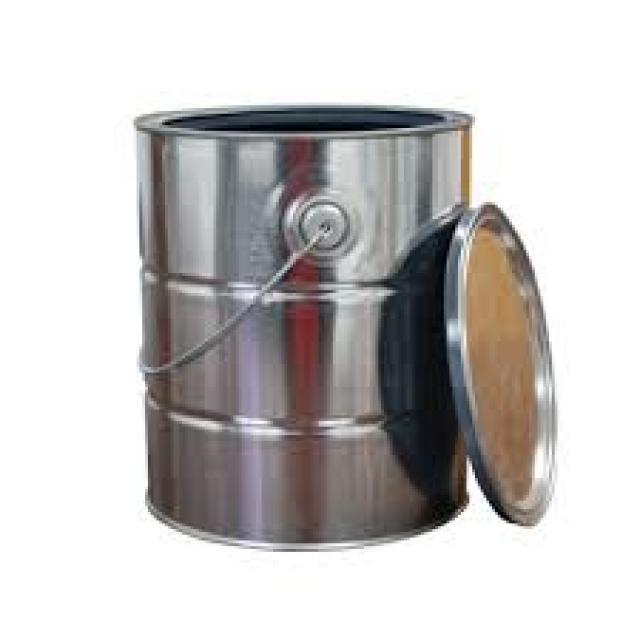recyclable: (128, 104, 476, 548), (444, 200, 557, 527)
